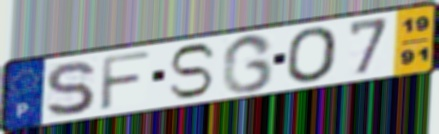7: (347, 16, 391, 78)
F: (97, 49, 153, 113)
G: (219, 32, 276, 95)
O: (286, 24, 341, 84)
S: (43, 59, 97, 119), (166, 42, 218, 101)
